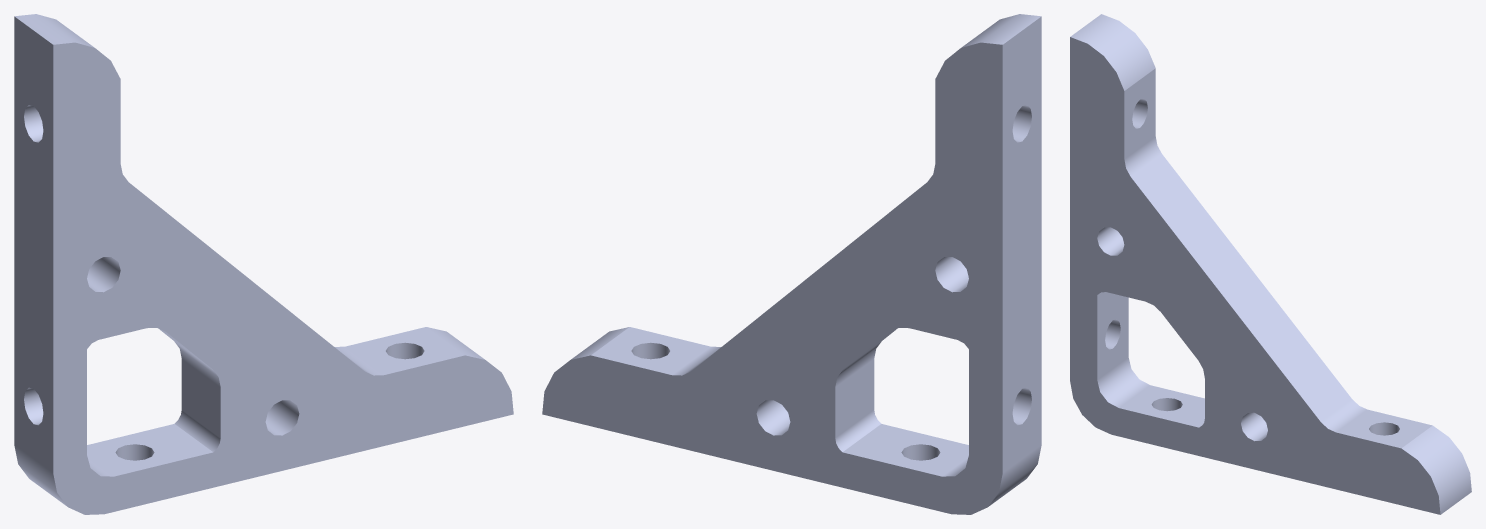
The model's file is + Spine-waist plate gusset.dae.
3 views of the same model, side by side, from view 1: azimuth 30°, elevation 25°; view 2: azimuth 150°, elevation 25°; view 3: azimuth 330°, elevation 25° (orthographic). The views are drawn at different scales.
Visible parts, largest first — view 1: Actor0; view 2: Actor0; view 3: Actor0.
Boxes of the visible parts, x1,y1,x2,y2 form: Actor0: [14, 14, 513, 514]; Actor0: [542, 14, 1041, 514]; Actor0: [1070, 14, 1471, 514].
Size of the model in its own units: 0.0866 by 0.0866 by 0.0127.
